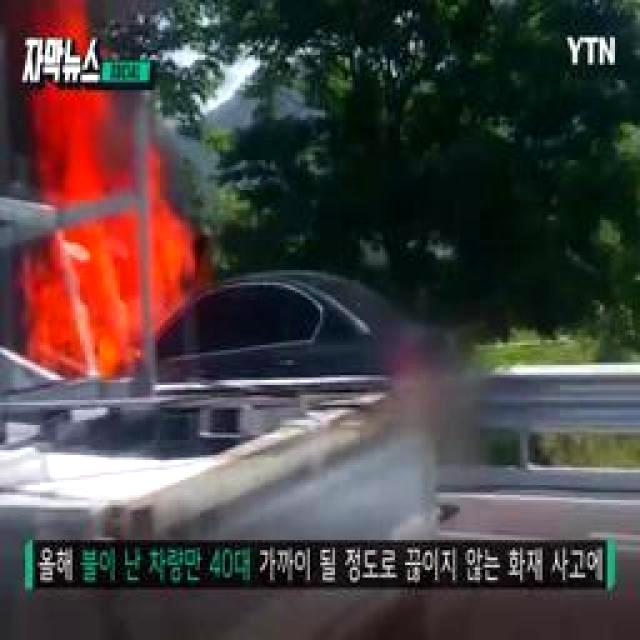fire: (30, 84, 190, 392)
